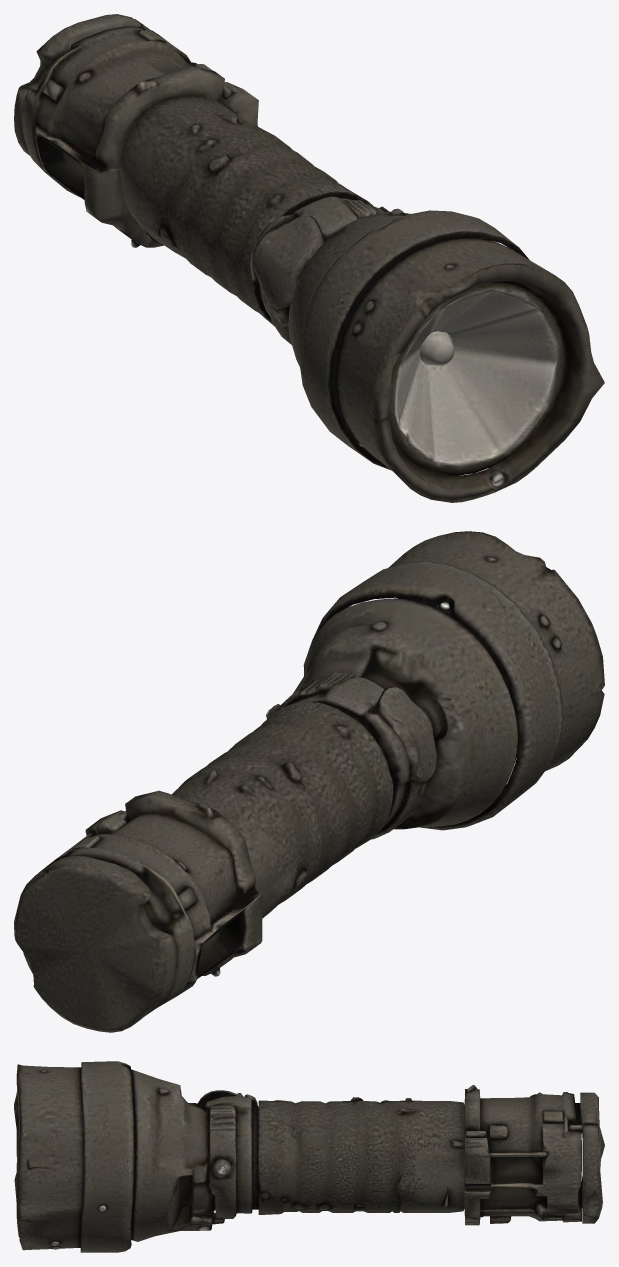
File: prop_flashlight.glb
3 renders of one model, top to bottom at view 1: azimuth 30°, elevation 25°; view 2: azimuth 150°, elevation 25°; view 3: azimuth 270°, elevation 25°, orthographic. The views are drawn at different scales.
Parts seen in each view (by area): view 1: tripo_node_af21496a-b463-4e7e-9e12-c475c5cb508f; view 2: tripo_node_af21496a-b463-4e7e-9e12-c475c5cb508f; view 3: tripo_node_af21496a-b463-4e7e-9e12-c475c5cb508f.
Boxes of the visible parts, left/top/right/bottom form: tripo_node_af21496a-b463-4e7e-9e12-c475c5cb508f: left=14, top=14, right=604, bottom=502; tripo_node_af21496a-b463-4e7e-9e12-c475c5cb508f: left=14, top=531, right=604, bottom=1032; tripo_node_af21496a-b463-4e7e-9e12-c475c5cb508f: left=14, top=1061, right=604, bottom=1252.
Bounding box in the file's own units: 0.0734 × 0.0715 × 0.22.
1 material, 1 textured.
